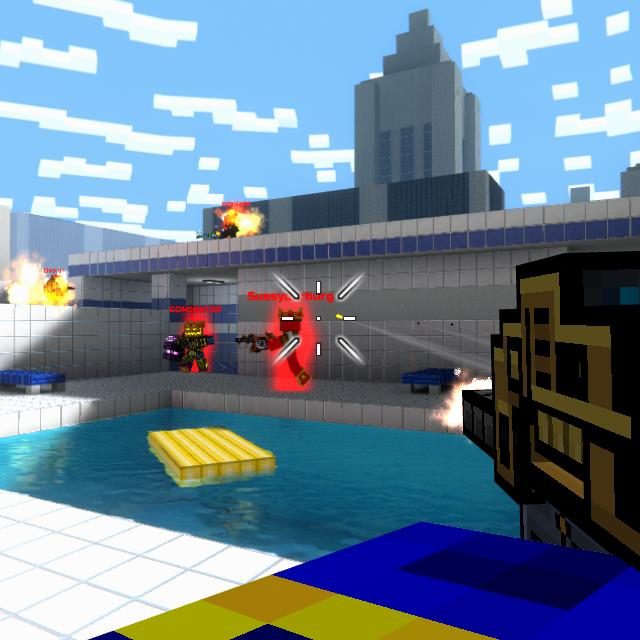Enemy: (266, 308, 310, 388), (173, 321, 213, 373), (219, 216, 238, 237)
